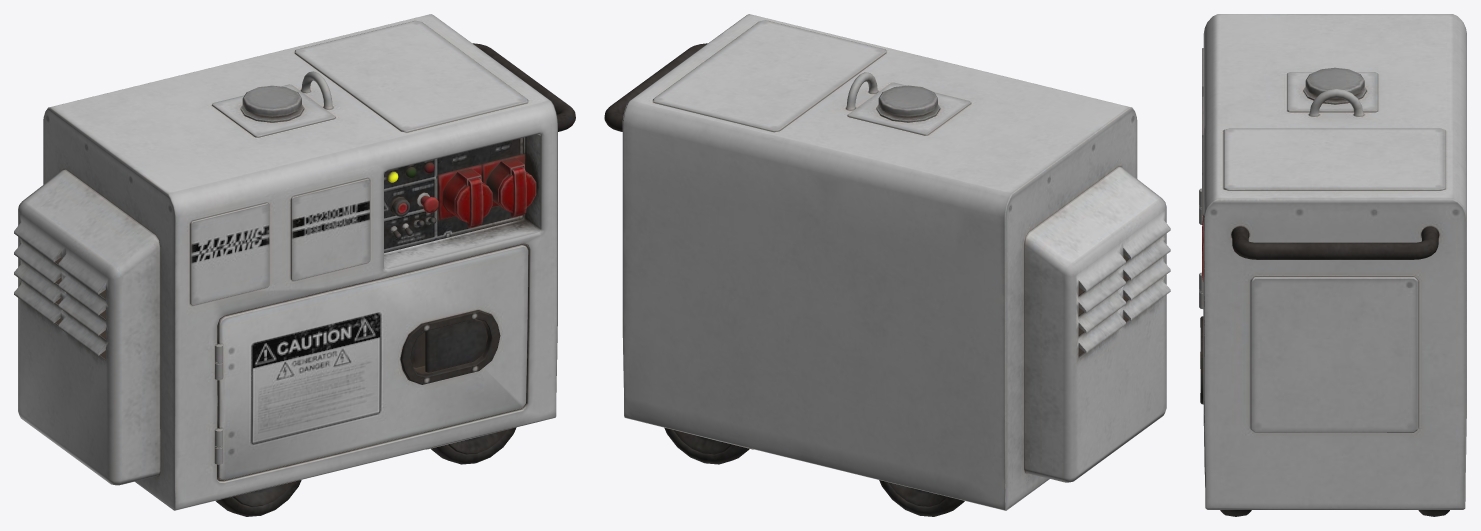
Rendered from generator_diesel.gltf.
3 renders of one model, left to right at view 1: azimuth 30°, elevation 25°; view 2: azimuth 150°, elevation 25°; view 3: azimuth 270°, elevation 25°, orthographic.
Parts seen in each view (by area): view 1: polySurface52; view 2: polySurface52; view 3: polySurface52.
Boxes of the visible parts, bbox=[...] form: polySurface52: bbox=[14, 14, 575, 516]; polySurface52: bbox=[604, 14, 1170, 516]; polySurface52: bbox=[1199, 14, 1466, 516].
Bounding box in the file's own units: 1.41 × 1.06 × 0.6889.
1 material, 1 textured.
